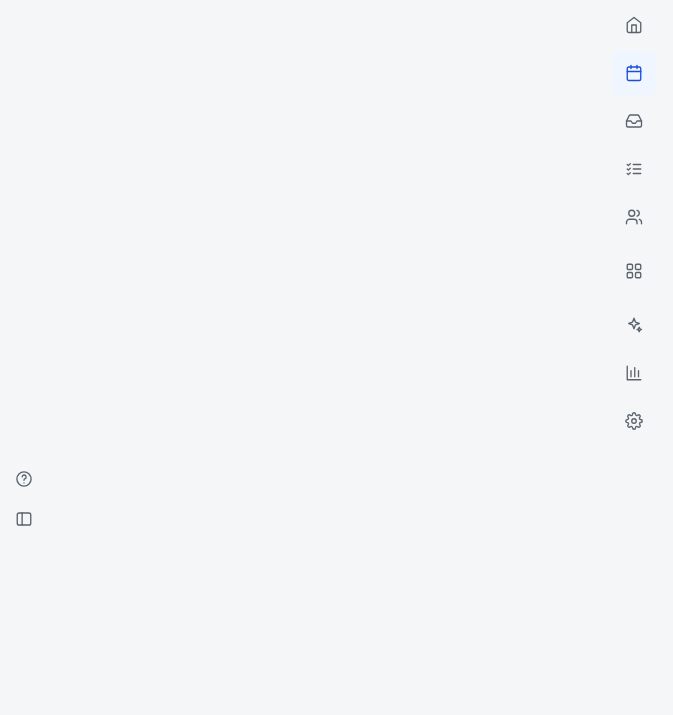
it: Etapa A — sidebar por seções › nenhuma rota autorizada desapareceu do menu
expect the link named "Visão geral" is shown: met, box [625,16,643,34]
expect the link named "Agenda" is shown: met, box [612,51,656,95]
Hover over the button named "Clínica" at (634,271), box [612,249,656,293]
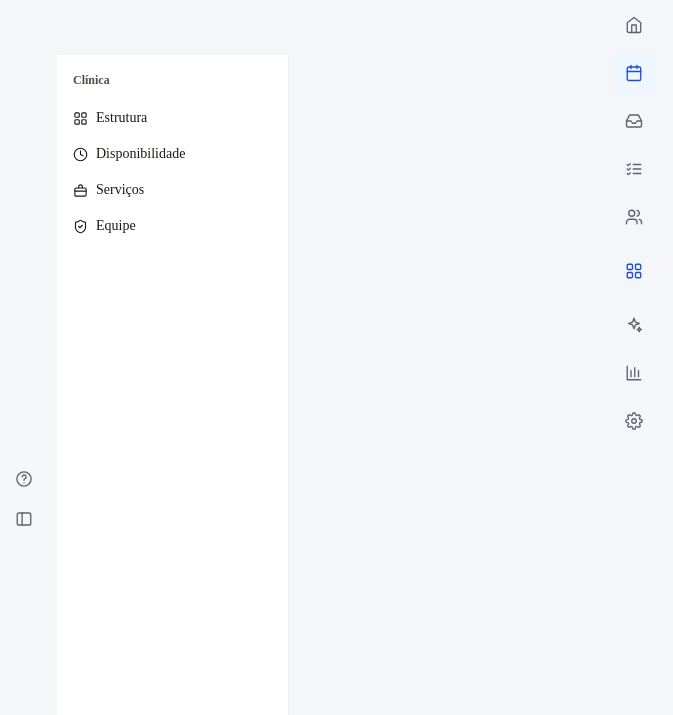
expect the menu item "Estrutura" is shown: met, box [73,110,147,126]
expect the menu item "Serviços" is shown: met, box [73,182,144,198]
expect the menu item "Disponibilidade" is shown: met, box [73,146,185,162]
Hover over the button named "Automação" at (634,325), box [612,303,656,347]
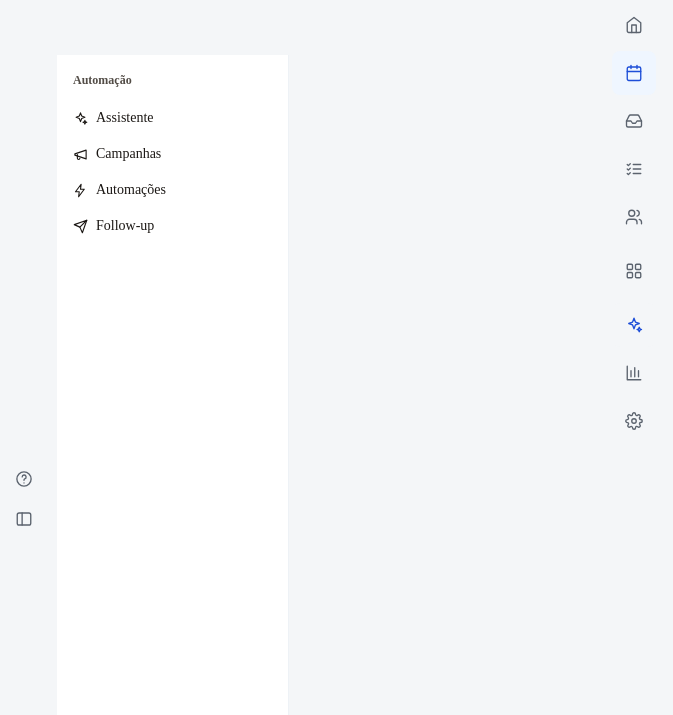
expect the menu item "Automações" is shown: met, box [73,182,166,198]
expect the menu item "Follow-up" is shown: met, box [73,218,154,234]
expect the menu item "Campanhas" is shown: met, box [73,146,161,162]
Hover over the button named "Gestão" at (634,373), box [612,351,656,395]
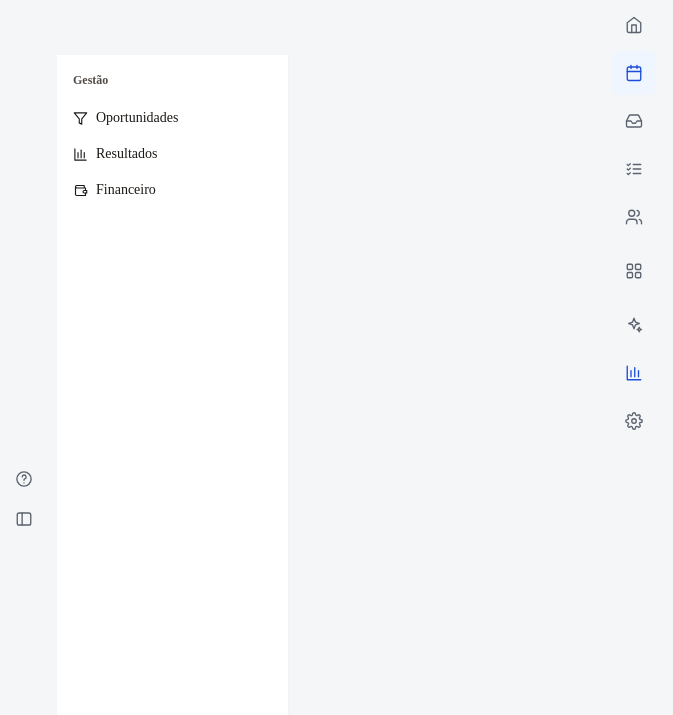
expect the menu item "Resultados" is shown: met, box [73,146,158,162]
expect the menu item "Financeiro" is shown: met, box [73,182,156,198]
expect the menu item "Oportunidades" is shown: met, box [73,110,178,126]
Hover over the button named "Configurações" at (634,421), box [612,399,656,443]
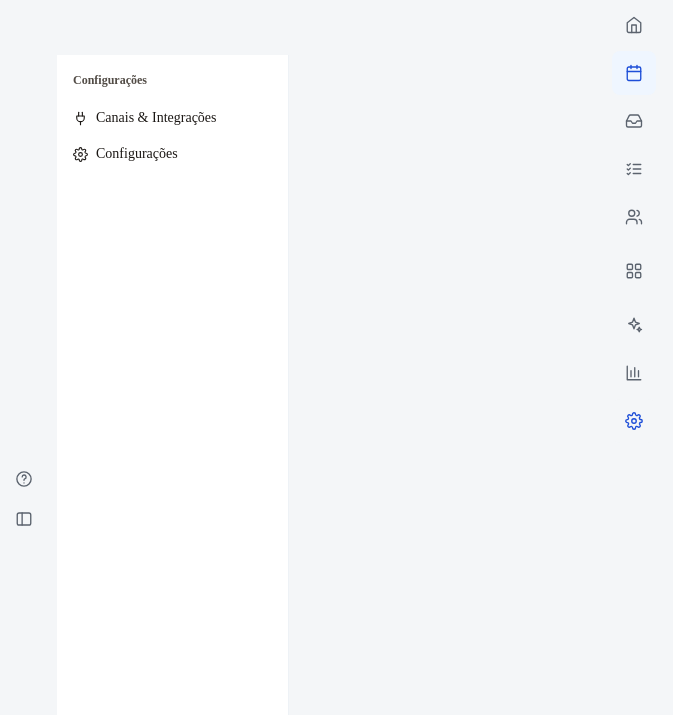
expect the menu item "Canais & Integrações" is shown: met, box [73,110,216,126]
expect the menu item "Configurações" is shown: met, box [73,146,178,162]
